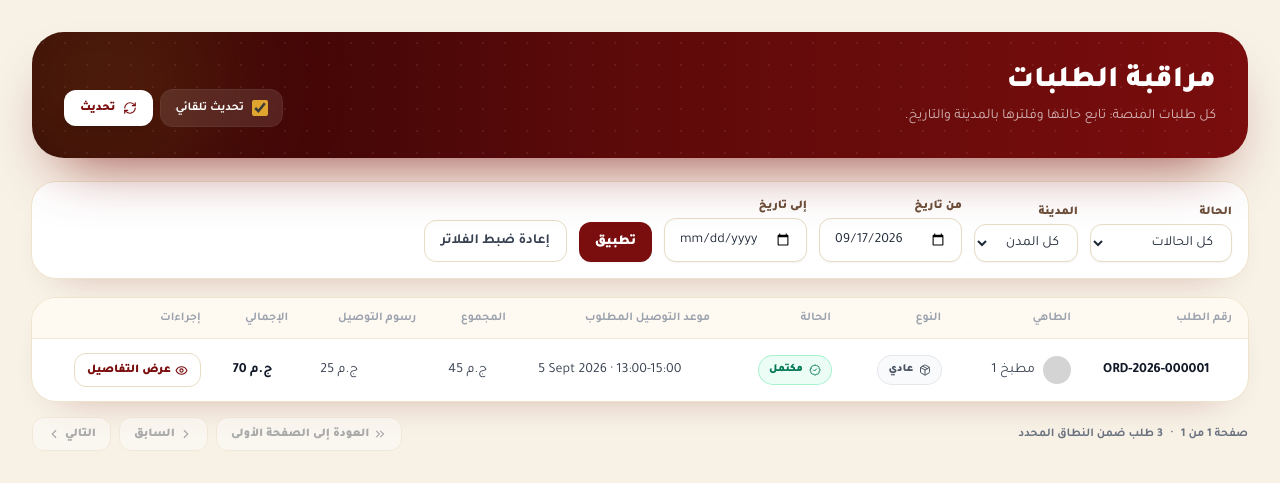
Test case: US2 — filter by status, city, and placed-date range › AC3/AC4: a deactivated city is a selectable filter value
The image size is (1280, 500).
Expected: the text "ORD-2026-000001" is shown, x1=1087 y1=338 x2=1248 y2=401
Select "الجيزة" in the dropdown labelled "المدينة" at (1026, 243), box x1=974 y1=224 x2=1078 y2=262
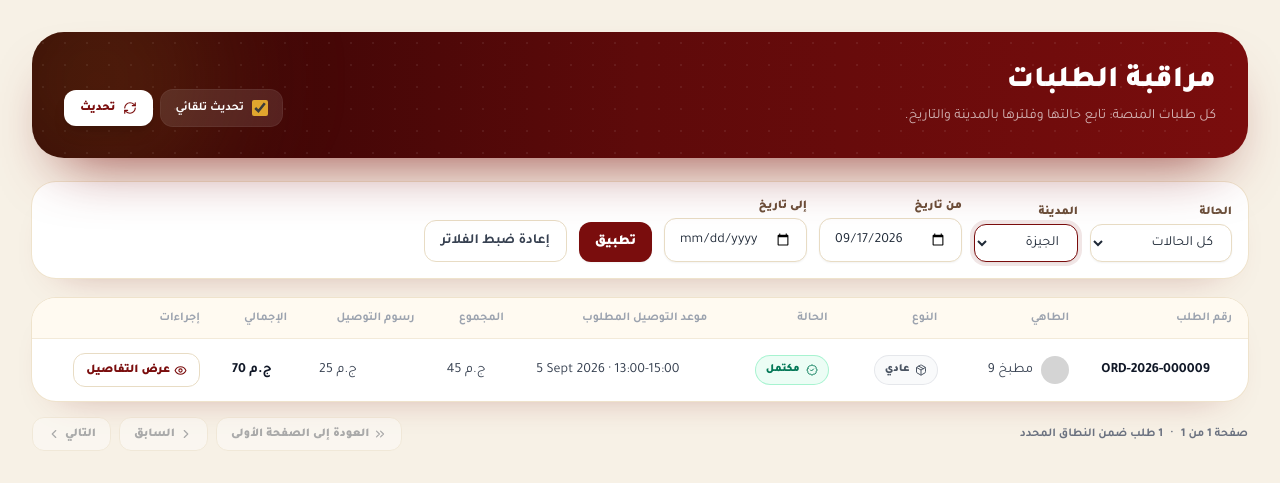
Result: the text "ORD-2026-000009" is shown at x1=1085 y1=338 x2=1248 y2=401
